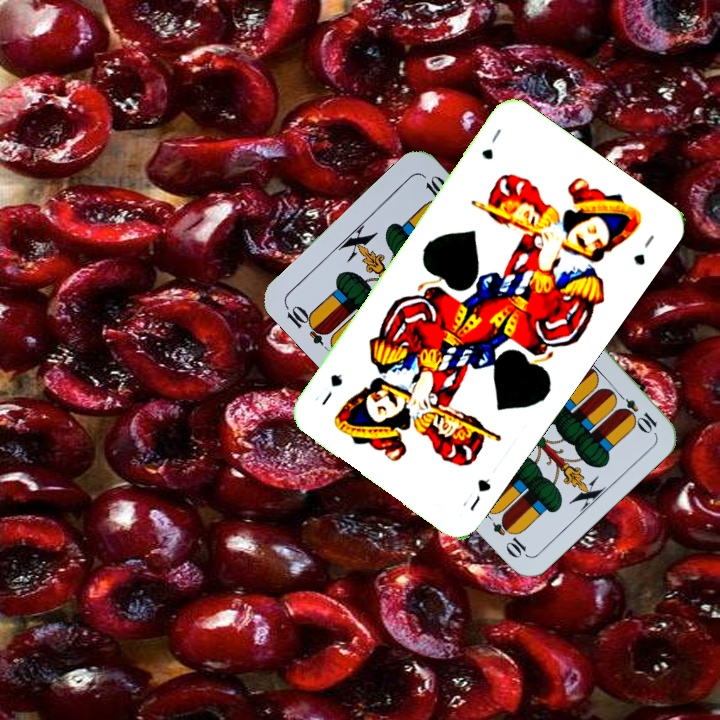E10: (280, 300, 332, 348), (610, 387, 660, 435)
GU: (458, 473, 494, 514), (477, 124, 504, 163)
